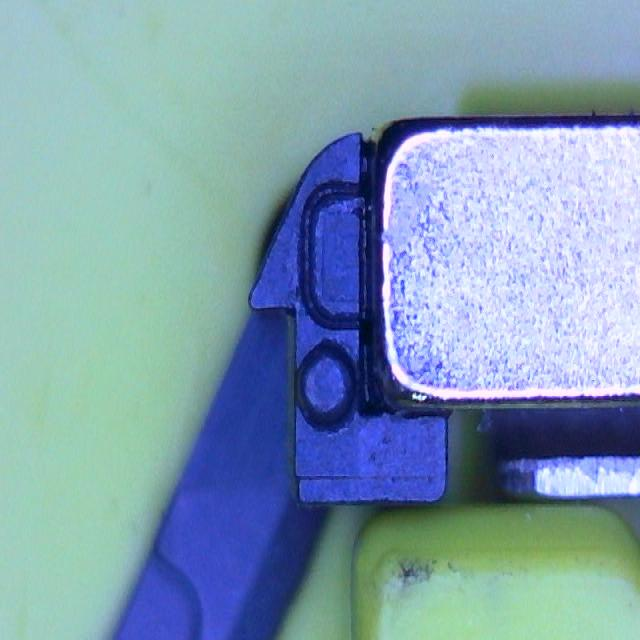lacking: (300, 177, 366, 333)
